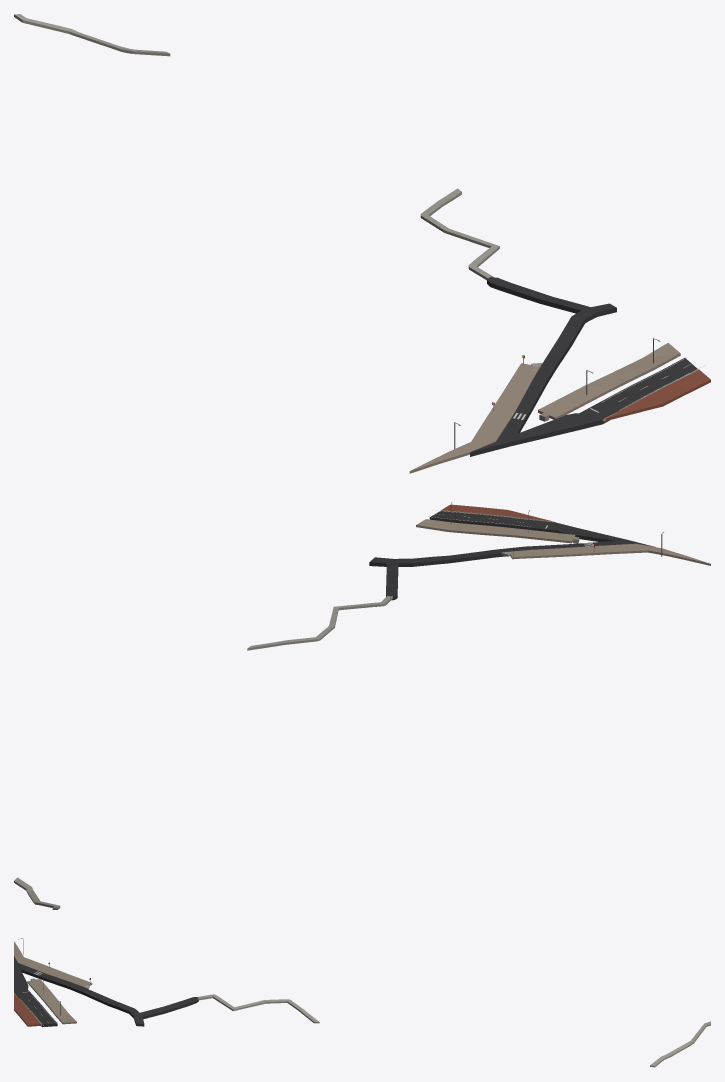
3 views of the same model, one above another, from view 1: azimuth 30°, elevation 25°; view 2: azimuth 150°, elevation 25°; view 3: azimuth 270°, elevation 25° (orthographic). The views are drawn at different scales.
Bounding box in the file's own units: 89.64 × 26.82 × 292.
